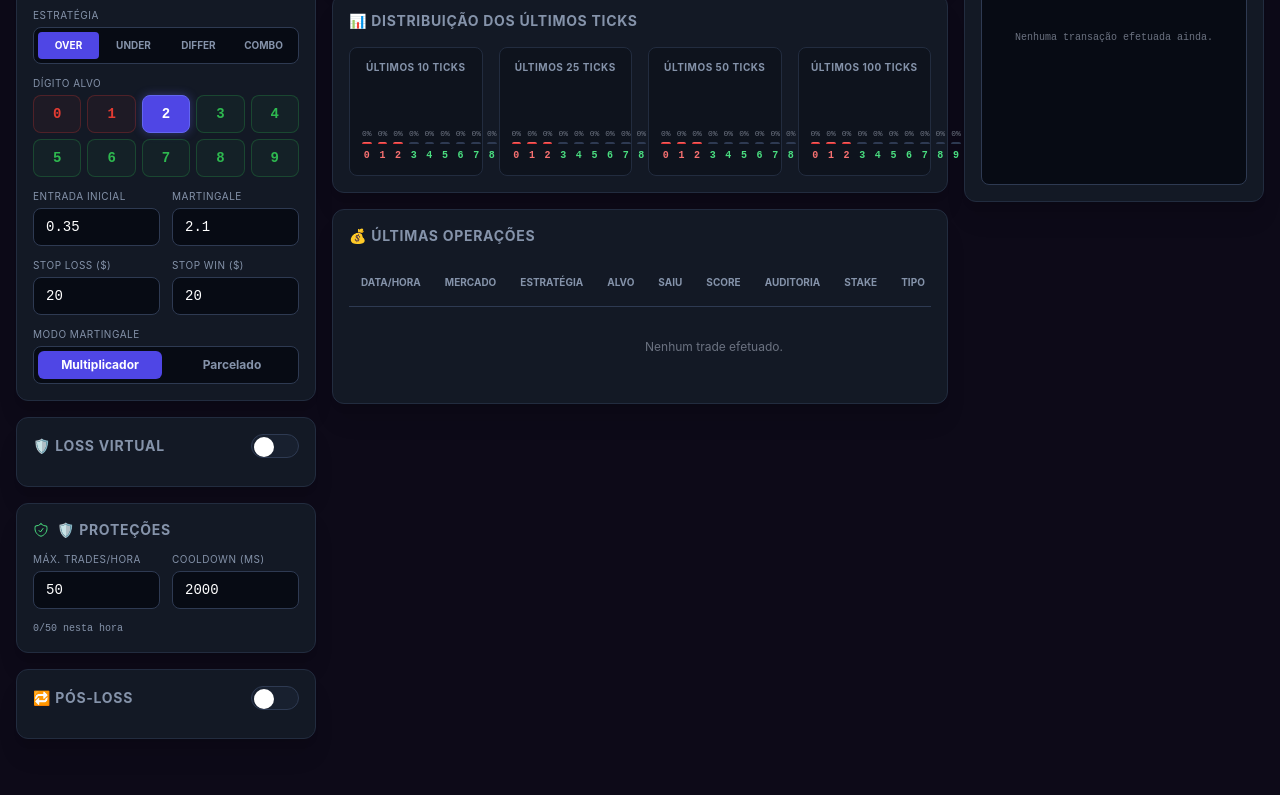
Test: BearBotUltra 2.0 Component › liga o card Pós-Loss e troca Recuperar / Analisar
(page scrolled)
Expected: the text "🔥 Recuperar" is not shown
Click the button without text next to "🔁 PÓS-LOSS" at [275, 698], box 251,686 -> 299,710
(page scrolled)
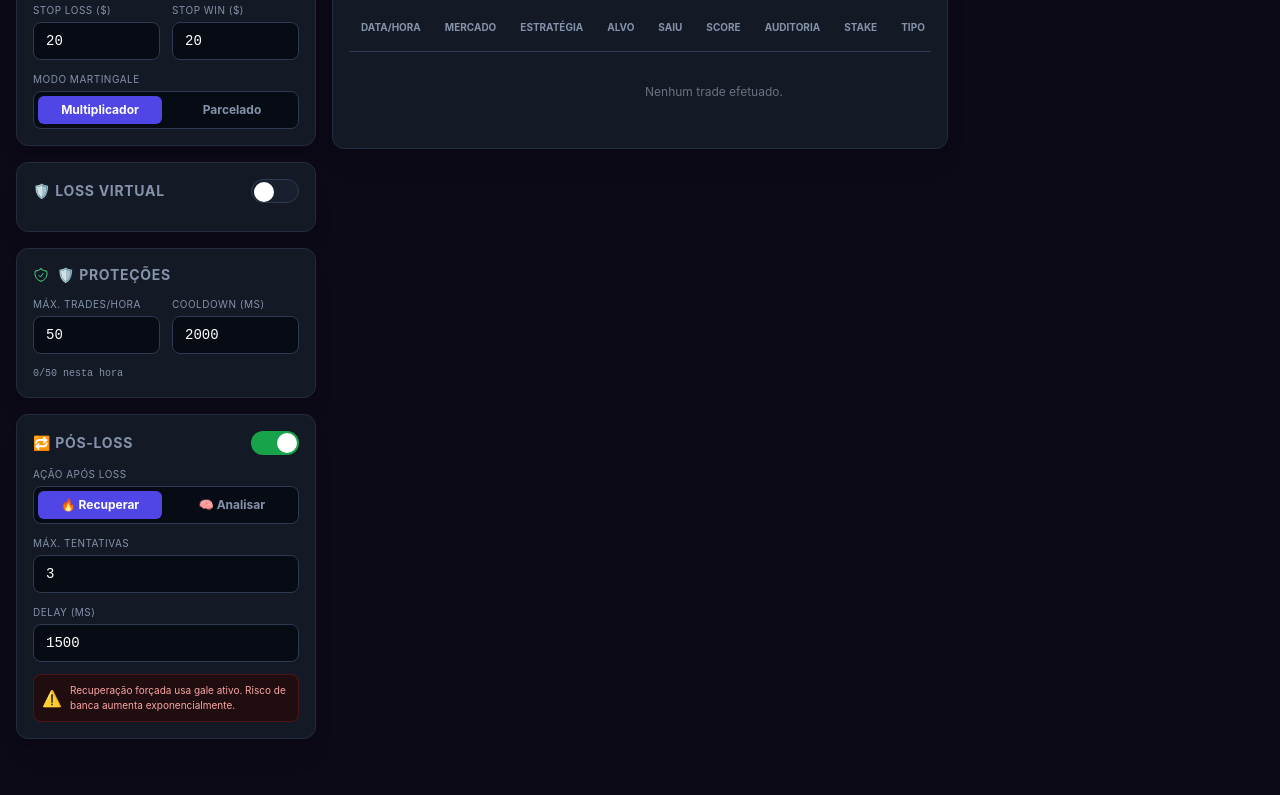
Now the button "🔥 Recuperar" is shown, box 38,490 -> 162,518
Now the text "Máx. tentativas" is shown, box 33,536 -> 129,548
Replace the text in the number field showing "3" below "Máx. tentativas" with "99" at [166, 574], box 33,554 -> 299,592
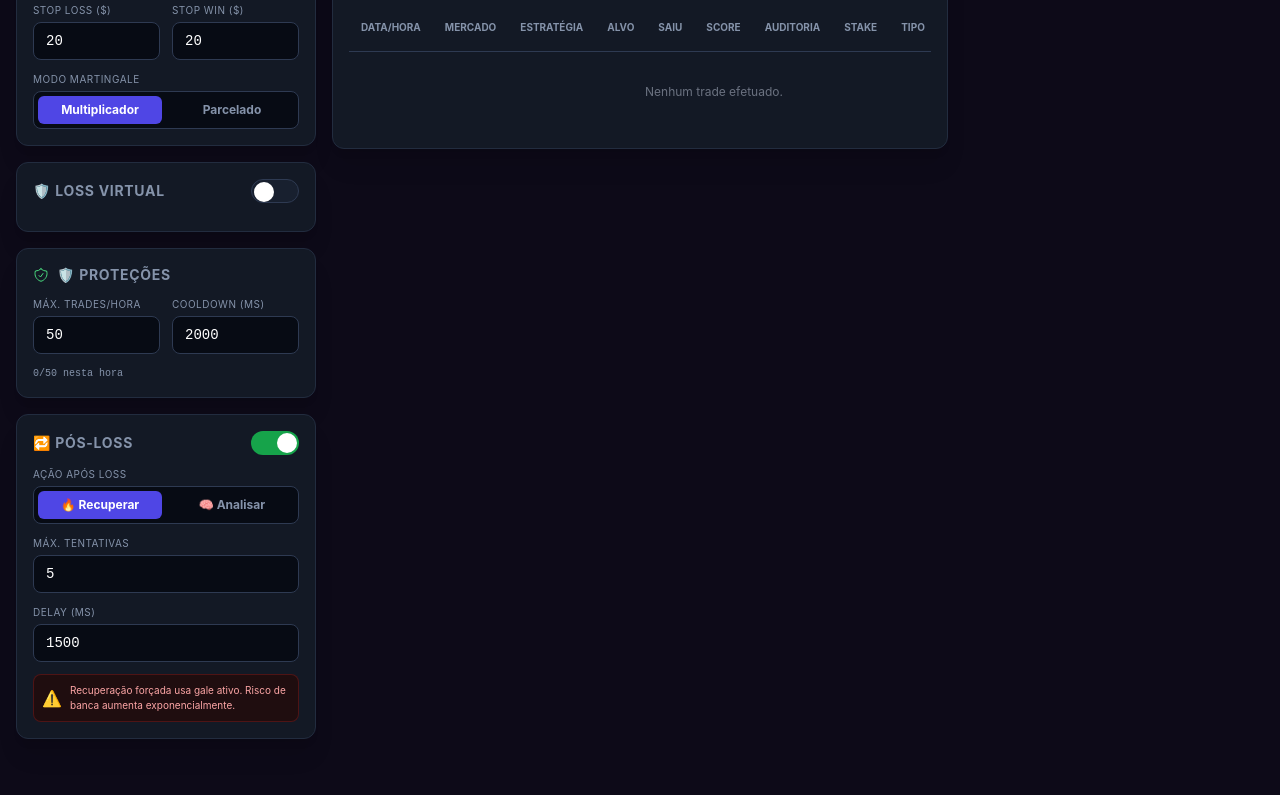
Now the number field showing "3" below "Máx. tentativas" holds "5", box 33,554 -> 299,592
Click the button "🧠 Analisar" at [232, 504], box 170,490 -> 294,518
(page scrolled)
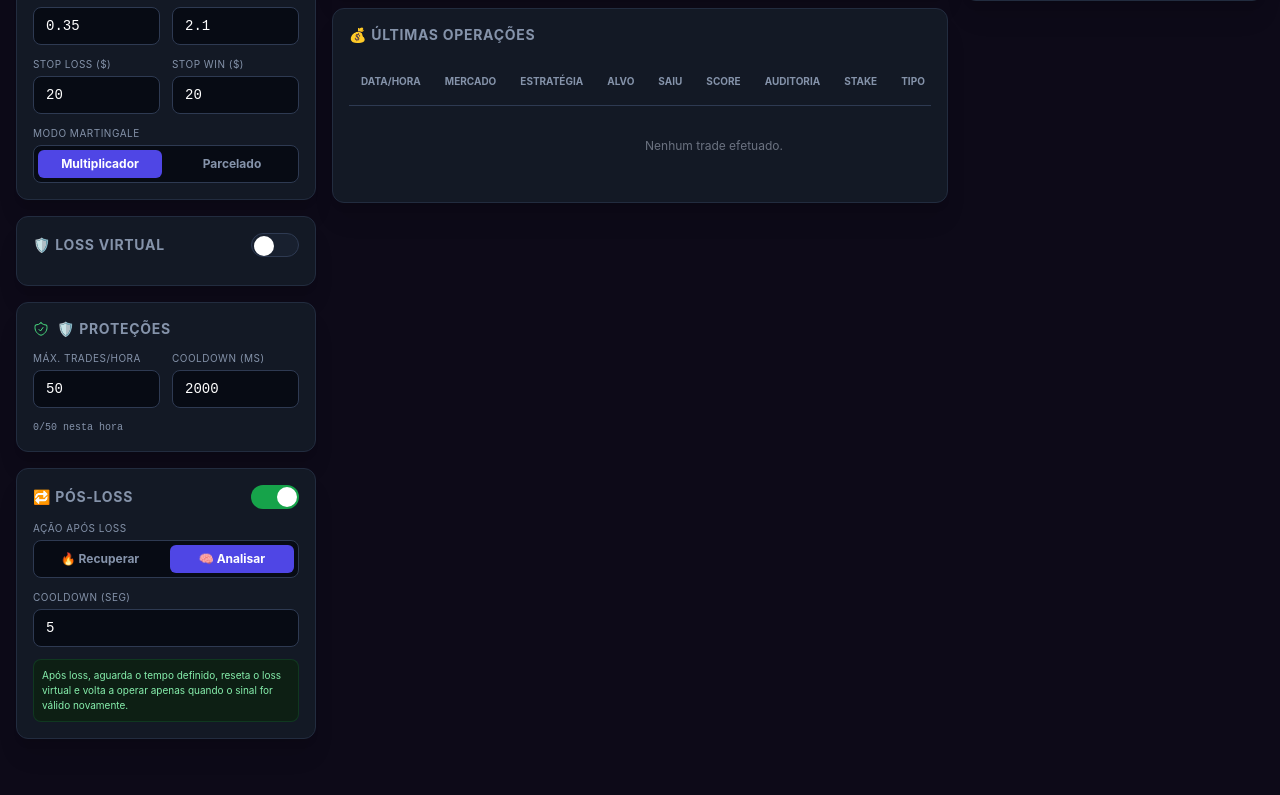
Now the text "Cooldown (seg)" is shown, box 33,590 -> 130,602
Now the text "Máx. tentativas" is gone
Replace the text in the number field showing "5" below "Cooldown (seg)" with "90" at [166, 628], box 33,608 -> 299,646
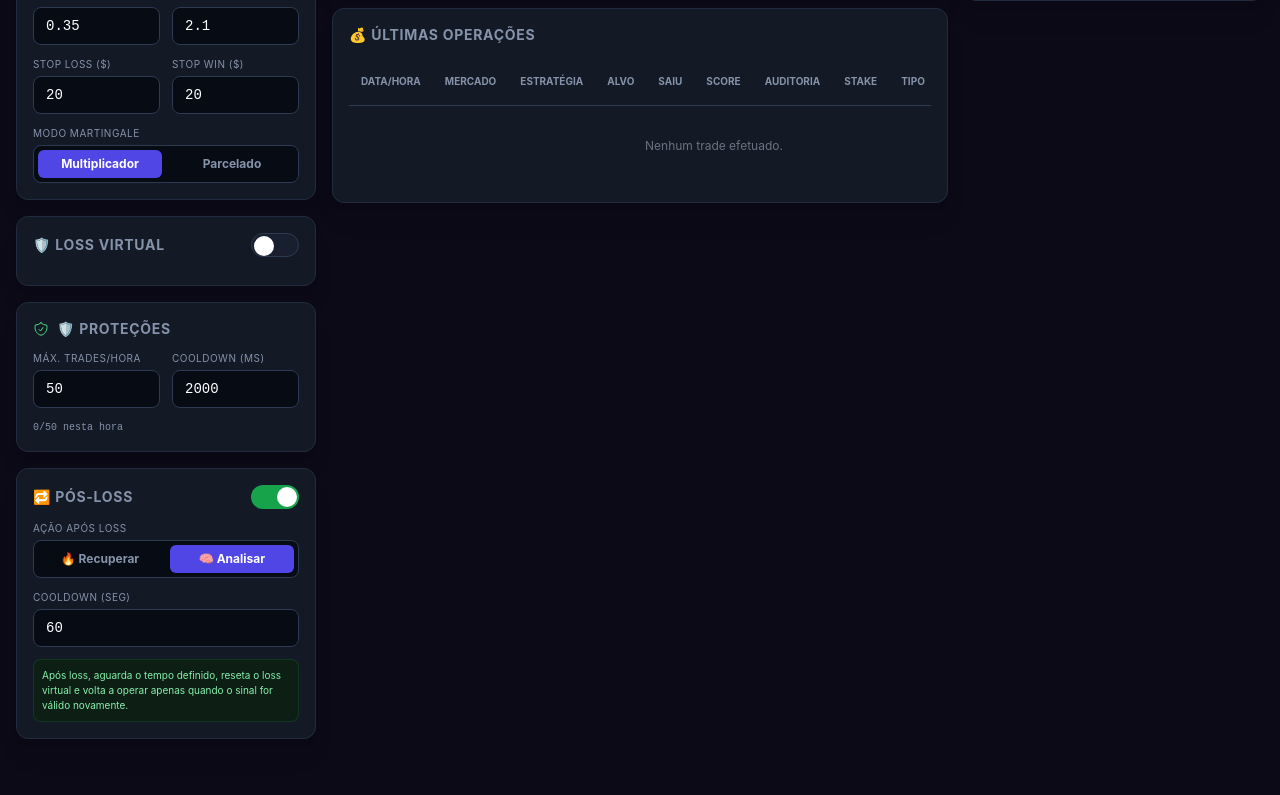
Now the number field showing "5" below "Cooldown (seg)" holds "60", box 33,608 -> 299,646
